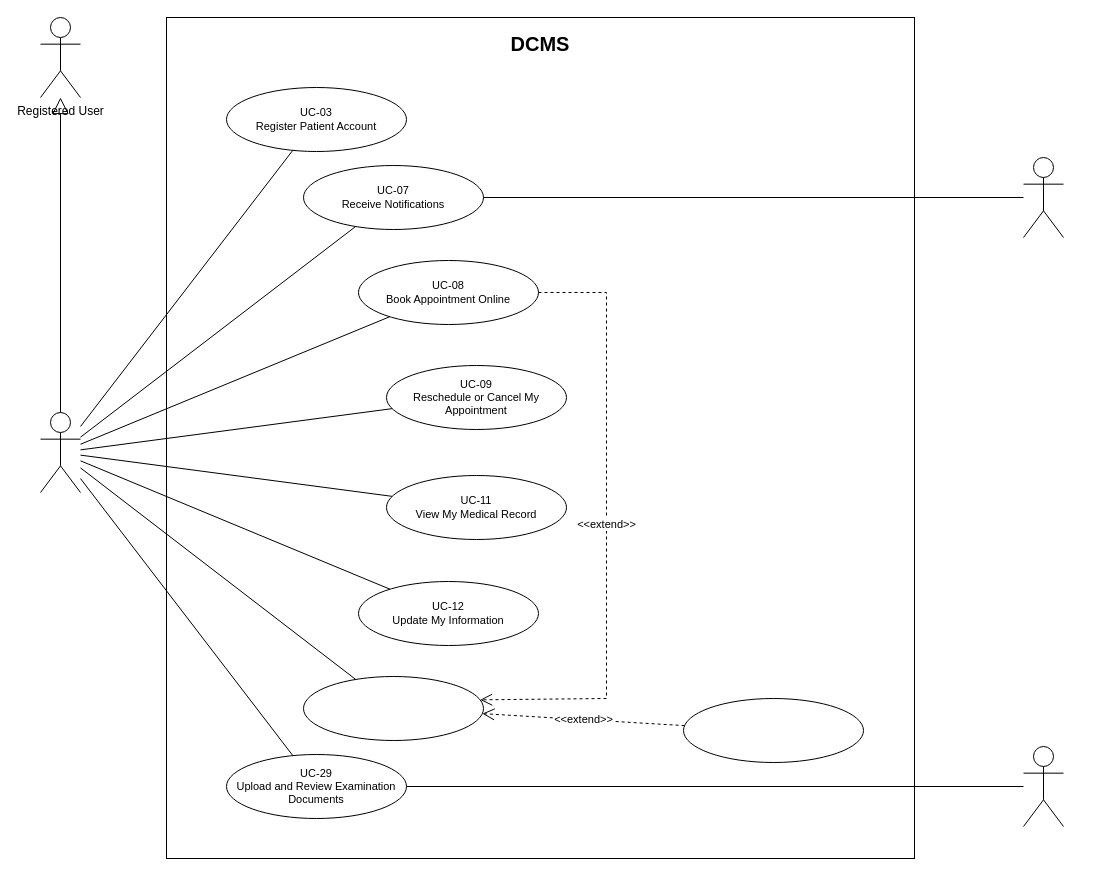
Image size: 1112x876. Some labels were removed from this diagram. The shapes that lost their labels are listed below. From the top down, each one's centre as x and y in pixels, then its label:
At point (1043, 197): "Notification Service".
At point (60, 452): "Patient".
At point (393, 708): "UC-13 Manage Family Members".
At point (773, 730): "UC-14 View Family Member Record".
At point (1043, 786): "Xray/PACS System".
